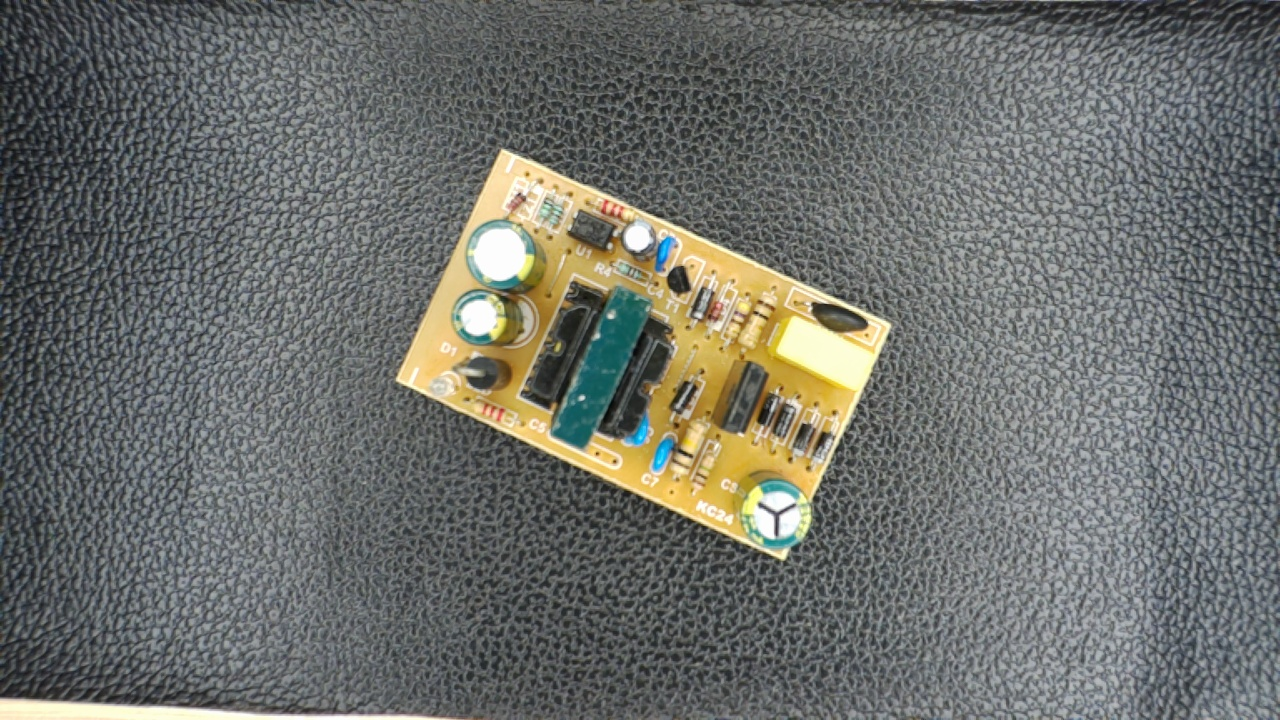fuse: (789, 296, 876, 338)
hv_capacitor: (728, 470, 815, 554)
optocoupler: (558, 207, 626, 254)
